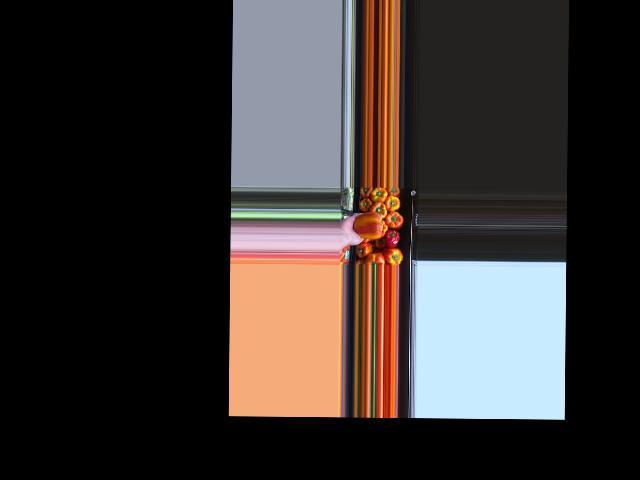bell_pepper: (358, 240, 372, 259)
